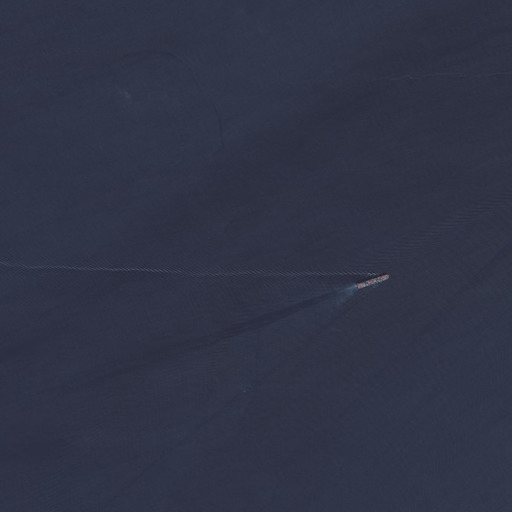ship: (355, 273, 391, 290)
